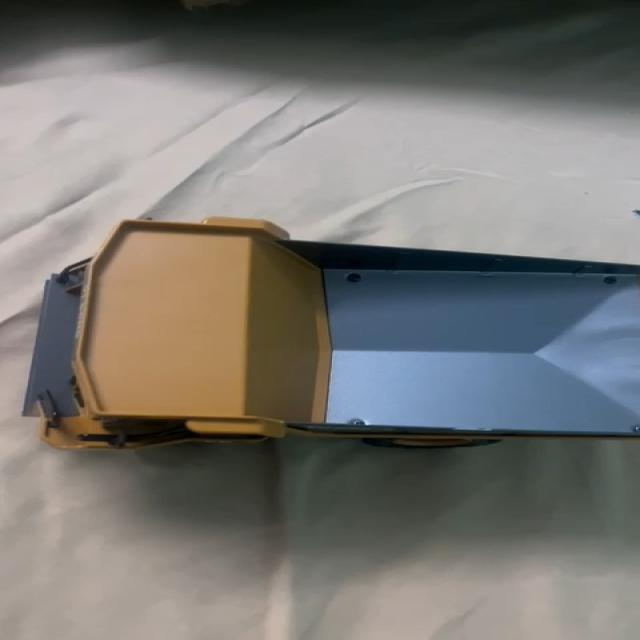dump_truck: (9, 218, 640, 460)
